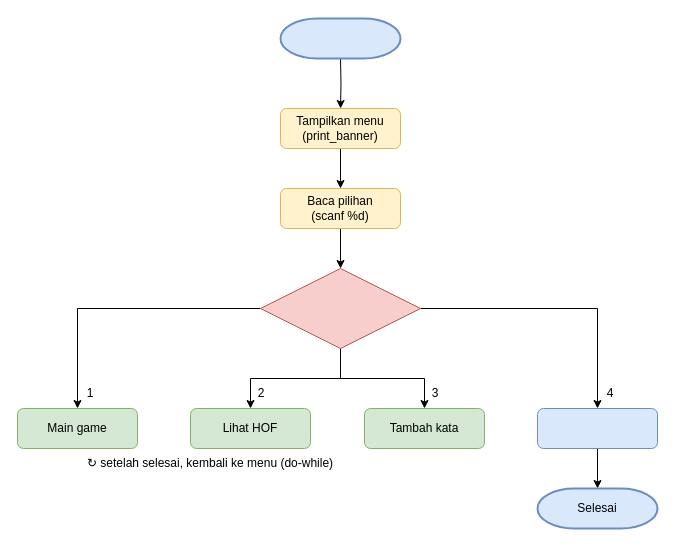
Image size: 676x546. Some labels were removed from this diagram. Each missing label, with the centre of its shape:
Keluar: pixel 597 428
Mulai: pixel 340 38
Pilihan? (lainnya→invalid): pixel 340 308
